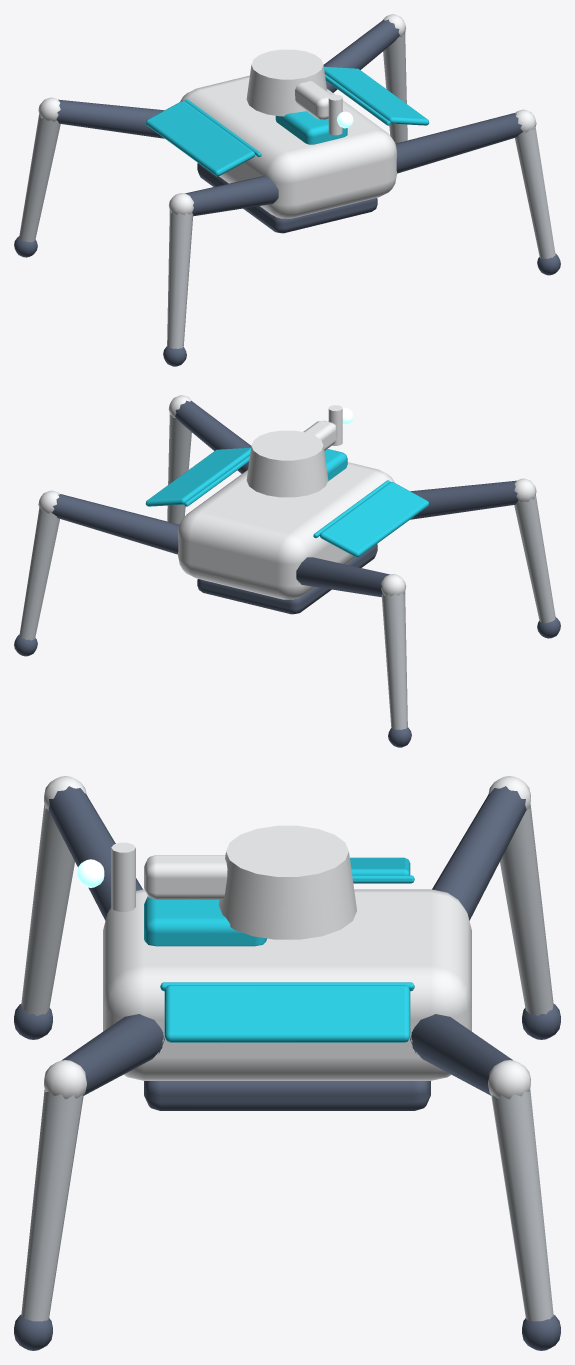
The model's file is hero-shooter-harbour-payload-hero-quill-turret-mode-e438edde__27662.glb.
3 renders of one model, top to bottom at view 1: azimuth 30°, elevation 25°; view 2: azimuth 150°, elevation 25°; view 3: azimuth 270°, elevation 25°, orthographic. The views are drawn at different scales.
Parts seen in each view (by area): view 1: hero-quill-turret-mode, turret/shell, hatch-l, hatch-r; view 2: hero-quill-turret-mode, turret/shell, hatch-l, hatch-r; view 3: hero-quill-turret-mode, turret/shell, hatch-r, hatch-l.
Part boxes in pixels (x1,y1,x2,y2): hero-quill-turret-mode: [14, 14, 560, 366]; turret/shell: [246, 49, 342, 135]; hatch-l: [145, 99, 261, 176]; hatch-r: [324, 66, 429, 125]; hero-quill-turret-mode: [14, 395, 560, 747]; turret/shell: [246, 405, 342, 497]; hatch-l: [313, 480, 429, 557]; hatch-r: [145, 447, 250, 506]; hero-quill-turret-mode: [14, 776, 560, 1350]; turret/shell: [111, 825, 356, 939]; hatch-r: [160, 982, 414, 1042]; hatch-l: [350, 857, 414, 883].
Size of the model in its own units: 1.9 by 0.9316 by 1.34.
